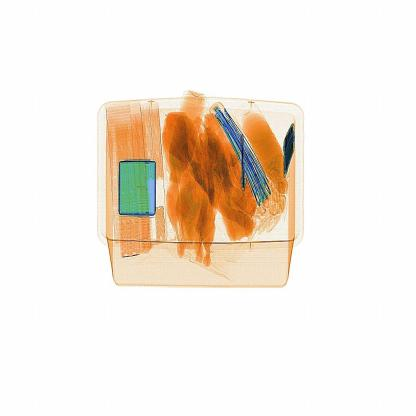knife: (232, 129, 261, 194)
